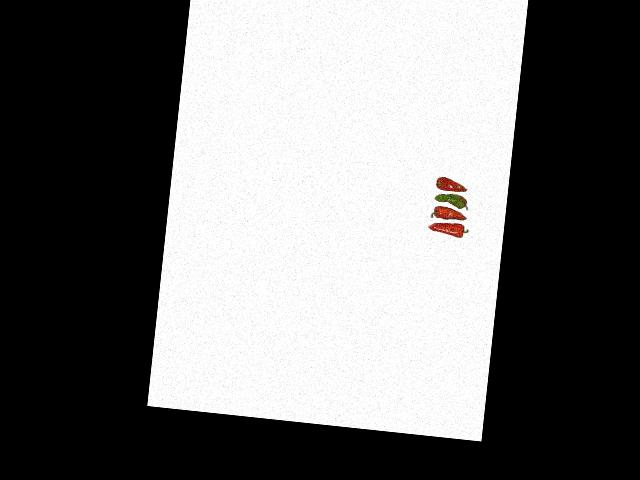bell_pepper: (434, 172, 471, 194)
